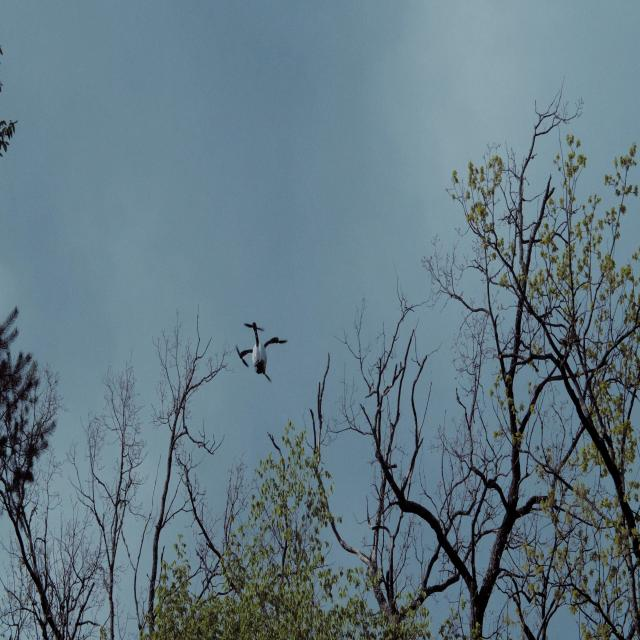Drone: (234, 302, 288, 382)
